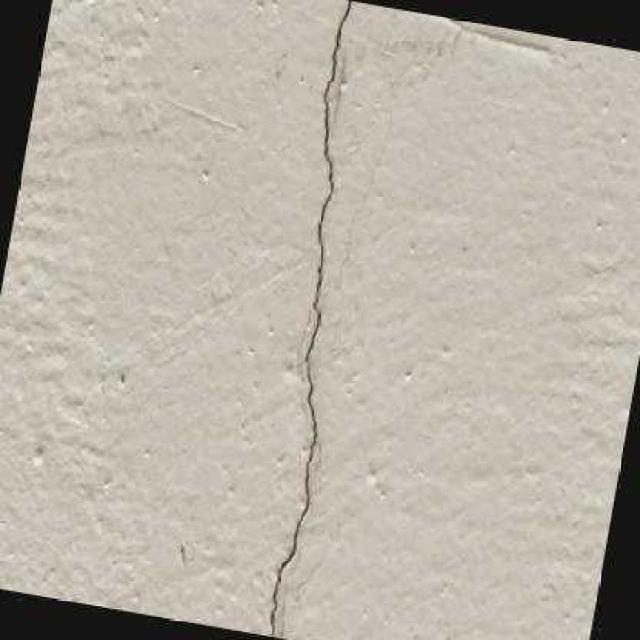D00: (264, 0, 356, 637)
